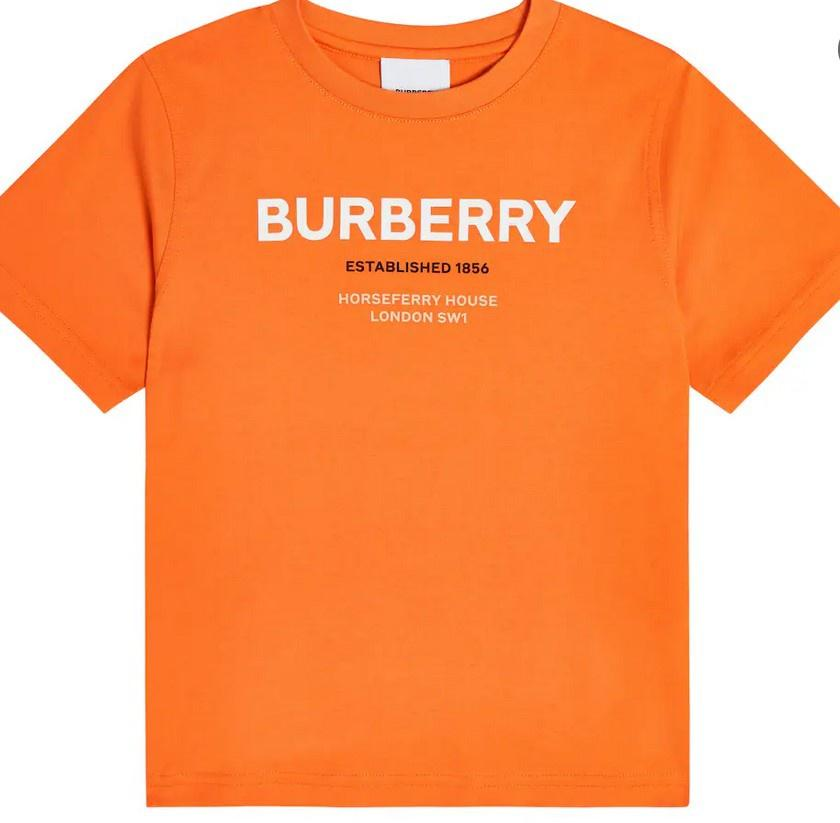BURBERRY: (258, 197, 577, 243)
